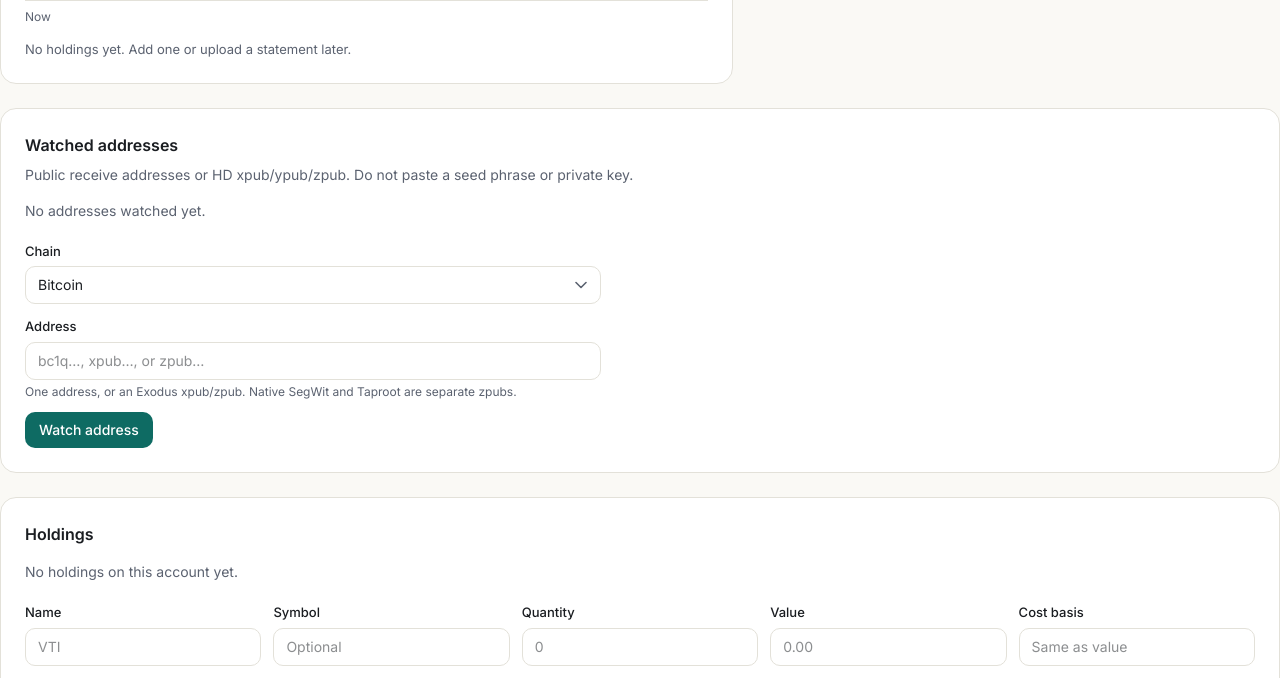
InvestmentDetailPage crypto addresses › lets a crypto account watch a public address
This screenshot has width=1280, height=678.
(page scrolled)
Expected: the heading "Watched addresses" is shown, [25,135,178,155]
Expected: the text "Public receive addresses or HD xpub" is shown, [25,166,633,183]
Type "1wiz18xYmhRX6xStj2b9t1rwWX4GKUgpv" into the field with placeholder "bc1q…, xpub…, or zpub…" at {"x": 313, "y": 361}, box [25,342,601,380]
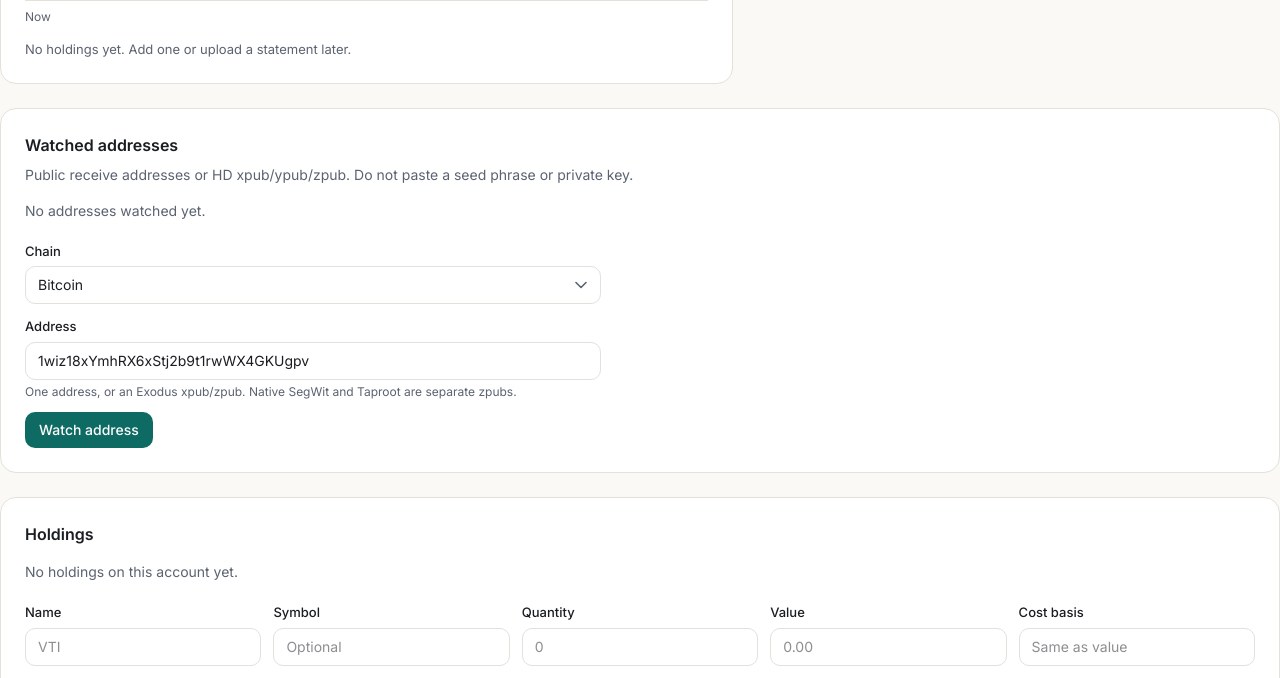
Click the button "Watch address" at {"x": 89, "y": 430}, box [25,412,153,448]
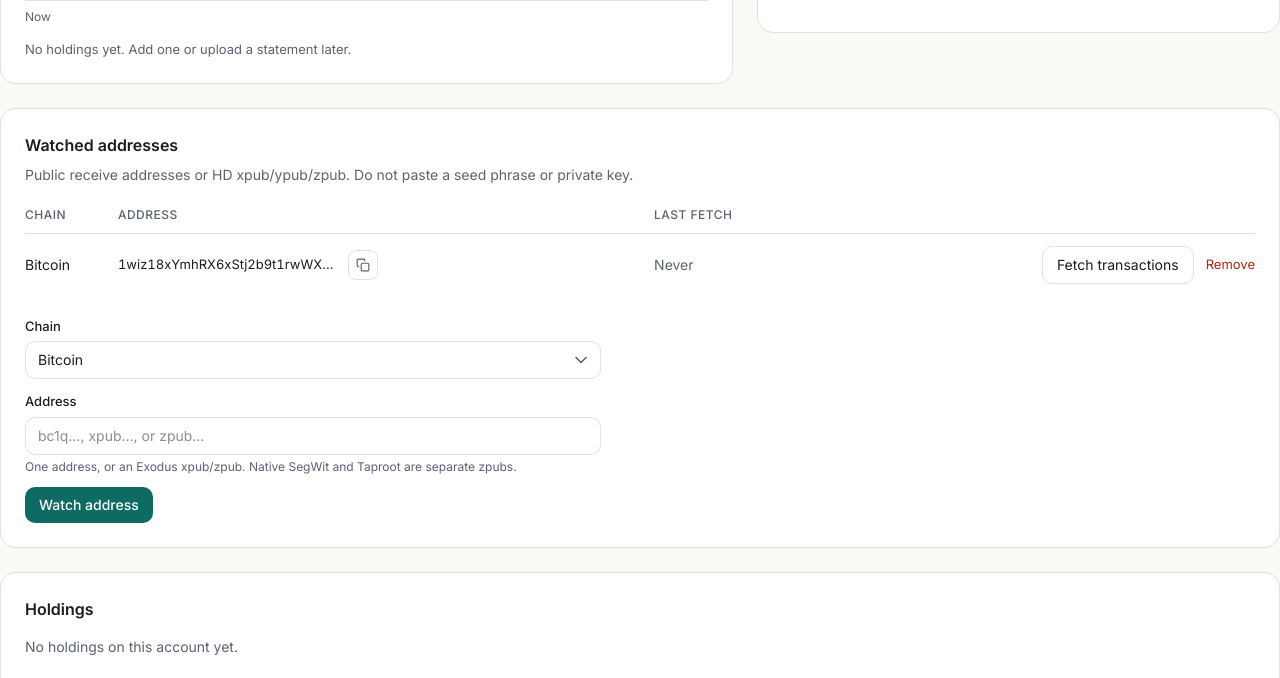
Result: the text "1wiz18xYmhRX6xStj2b9t1rwWX4GKUgpv" is shown at [118,256,340,274]
Result: the button "Fetch transactions" is shown at [1042,246,1194,284]
Result: the button named "Copy address" is shown at [348,250,378,280]
